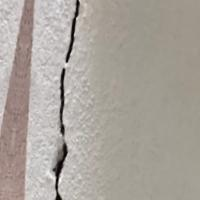crack: (38, 0, 100, 199)
